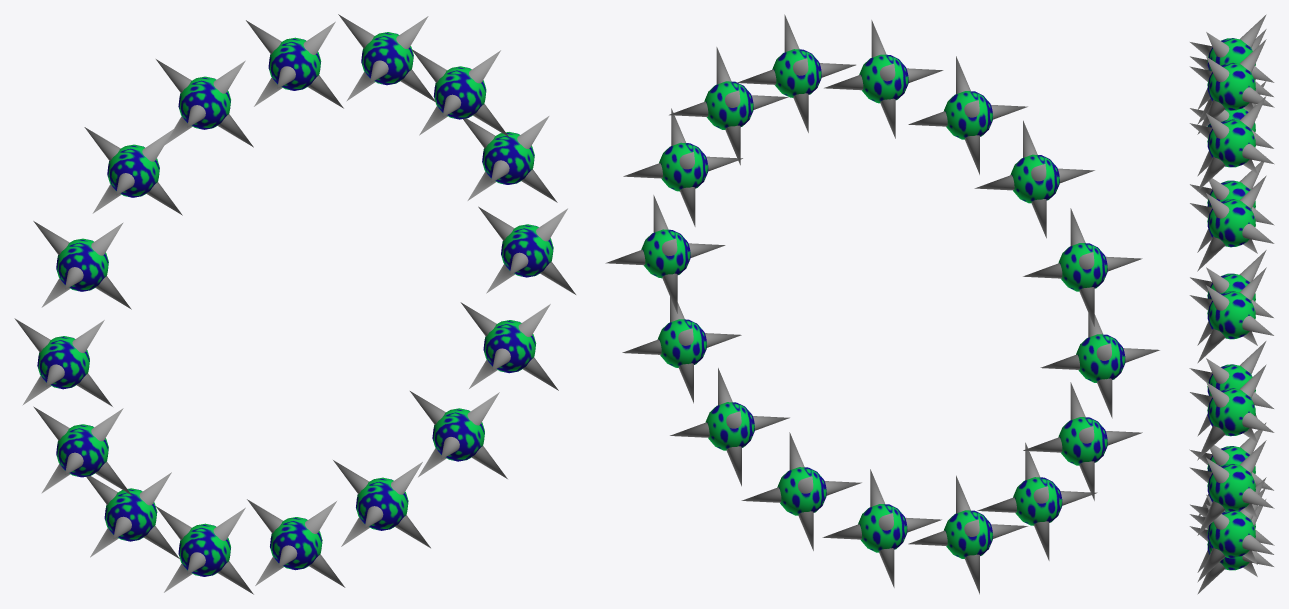
File: SpikeRing.fbx
3 views of the same model, side by side, from view 1: azimuth 30°, elevation 25°; view 2: azimuth 150°, elevation 25°; view 3: azimuth 270°, elevation 25° (orthographic). The views are drawn at different scales.
Parts seen in each view (by area): view 1: Sphere.010, Sphere.012, Sphere.003, Sphere.005, Sphere.009, Sphere.011, Sphere.013, Sphere.014, Sphere.016, Sphere.004, Sphere.008, Sphere (+4 smaller); view 2: Sphere.002, Sphere.010, Sphere.003, Sphere.014, Sphere.016, Sphere.008, Sphere.005, Sphere.007, Sphere.011, Sphere, Sphere.004, Sphere.006 (+4 smaller); view 3: Sphere.006, Sphere.005, Sphere.007, Sphere.008, Sphere.009, Sphere.004, Sphere.003, Sphere.010, Sphere.015, Sphere.013, Sphere.014, Sphere.016 (+56 smaller).
Part boxes in pixels (x1,y1,x2,y2): Sphere.010: (178, 76, 230, 129); Sphere.012: (56, 238, 108, 291); Sphere.003: (432, 408, 484, 461); Sphere.005: (501, 224, 553, 277); Sphere.009: (268, 37, 321, 90); Sphere.011: (107, 144, 159, 197); Sphere.013: (37, 336, 89, 389); Sphere.014: (56, 424, 108, 477); Sphere.016: (178, 523, 230, 576); Sphere.004: (483, 320, 536, 373); Sphere.008: (361, 32, 413, 85); Sphere: (270, 517, 322, 570); Sphere.002: (777, 467, 826, 515); Sphere.010: (944, 91, 992, 139); Sphere.003: (705, 402, 754, 450); Sphere.014: (1058, 417, 1107, 465); Sphere.016: (944, 510, 993, 558); Sphere.008: (772, 49, 821, 97); Sphere.005: (641, 229, 690, 278); Sphere.007: (704, 81, 753, 129); Sphere.011: (1010, 154, 1059, 203); Sphere: (858, 504, 907, 552); Sphere.004: (657, 319, 706, 367); Sphere.006: (659, 142, 708, 191); Sphere.006: (1207, 291, 1255, 339); Sphere.005: (1207, 388, 1255, 436); Sphere.007: (1207, 199, 1255, 247); Sphere.008: (1207, 119, 1255, 167); Sphere.009: (1207, 62, 1255, 110); Sphere.004: (1207, 464, 1255, 511); Sphere.003: (1207, 511, 1255, 558); Sphere.010: (1207, 38, 1255, 70); Sphere.015: (1207, 364, 1255, 396); Sphere.013: (1207, 180, 1255, 208); Sphere.014: (1207, 273, 1255, 301); Sphere.016: (1207, 446, 1255, 473).
Size of the model in its own units: 472 by 474 by 70.28.
2 materials, 1 textured.
